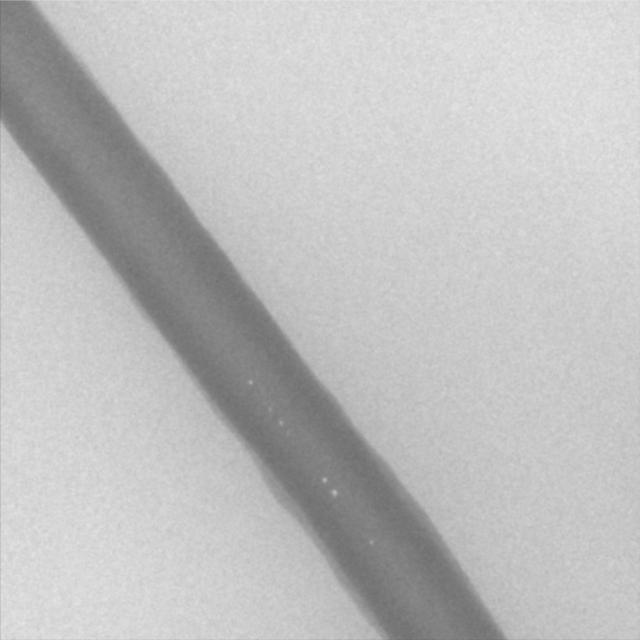air hole: (330, 485, 339, 498), (368, 537, 376, 548), (320, 474, 328, 484), (277, 418, 285, 428), (247, 377, 254, 388)
